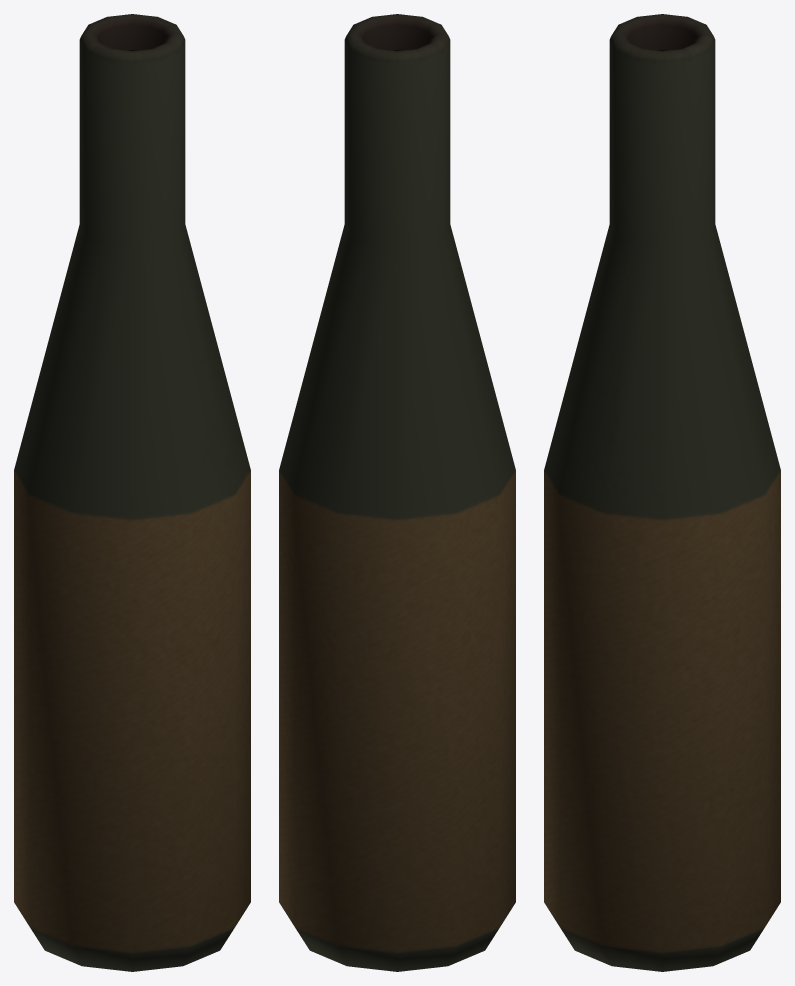
File: Glass_bottle.glb
3 views of the same model, side by side, from view 1: azimuth 30°, elevation 25°; view 2: azimuth 150°, elevation 25°; view 3: azimuth 270°, elevation 25° (orthographic).
Parts seen in each view (by area): view 1: Cylinder_misc_0; view 2: Cylinder_misc_0; view 3: Cylinder_misc_0.
Part boxes in pixels (x1,y1,x2,y2): Cylinder_misc_0: [14, 14, 250, 971]; Cylinder_misc_0: [279, 14, 515, 971]; Cylinder_misc_0: [544, 14, 780, 971].
Size of the model in its own units: 0.08 by 0.3338 by 0.08.
Materials: 1 (1 with a texture image).
